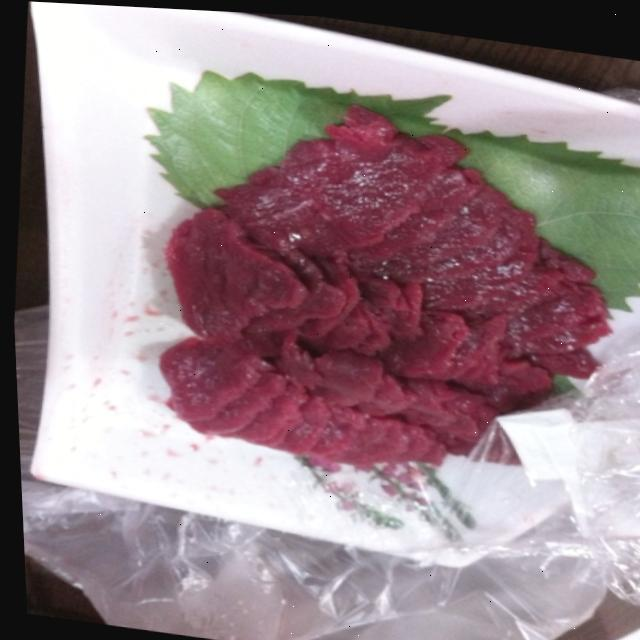刺身生食: (100, 57, 617, 540)
